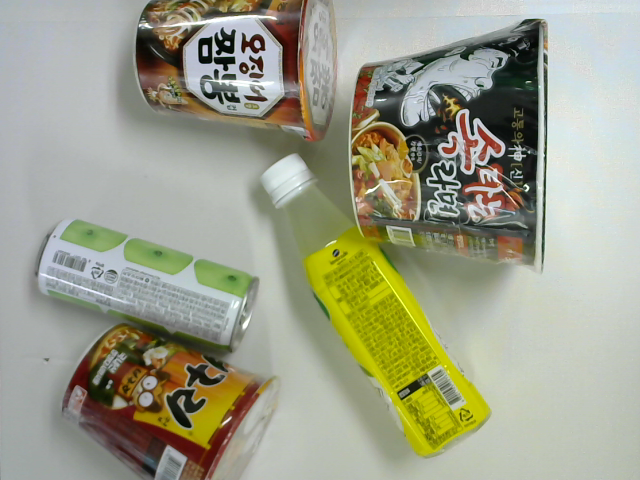Demisoda_Apple_Can_250ml: (35, 217, 259, 353)
HeJangsock: (350, 19, 549, 274)
Ojjam: (133, 1, 338, 141)
Raccoon: (62, 325, 278, 480)
Sunkist_Lemonaid_Pet: (260, 152, 491, 460)
